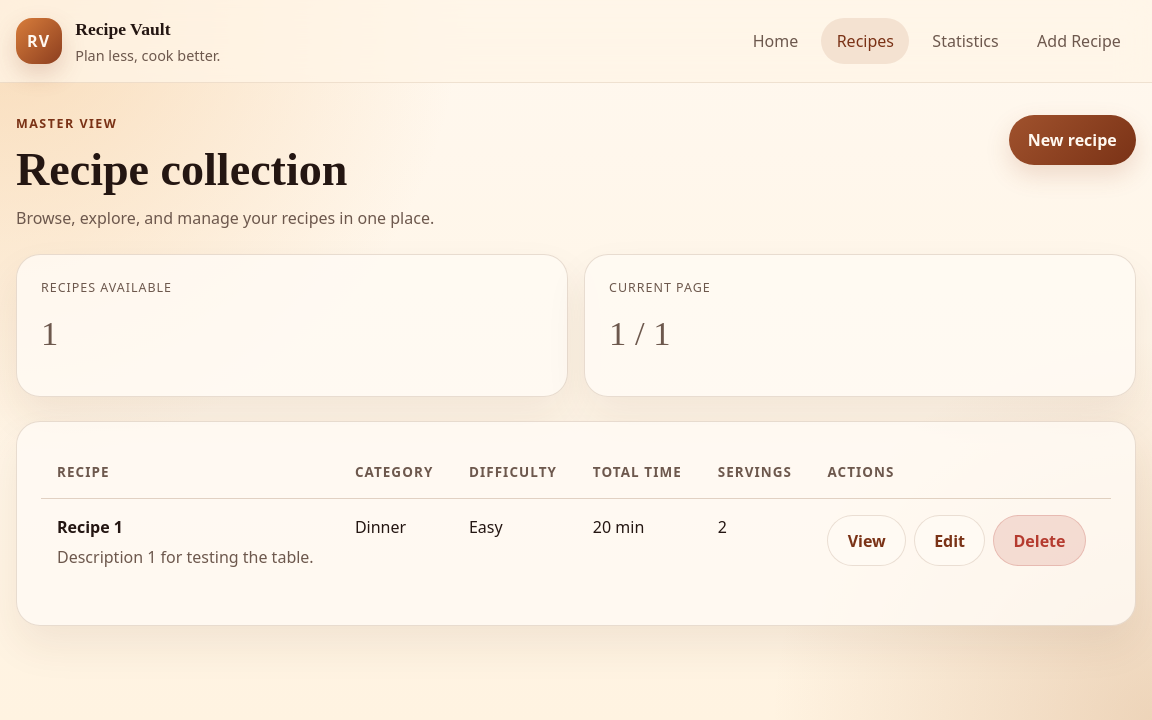
Test: Recipes page › opens the detail page from the table
The width and height of the screenshot is (1152, 720).
expect the link "Recipe 1" is shown: met, box [57, 516, 123, 538]
Click the link "View": (867, 541) [828, 515, 906, 566]
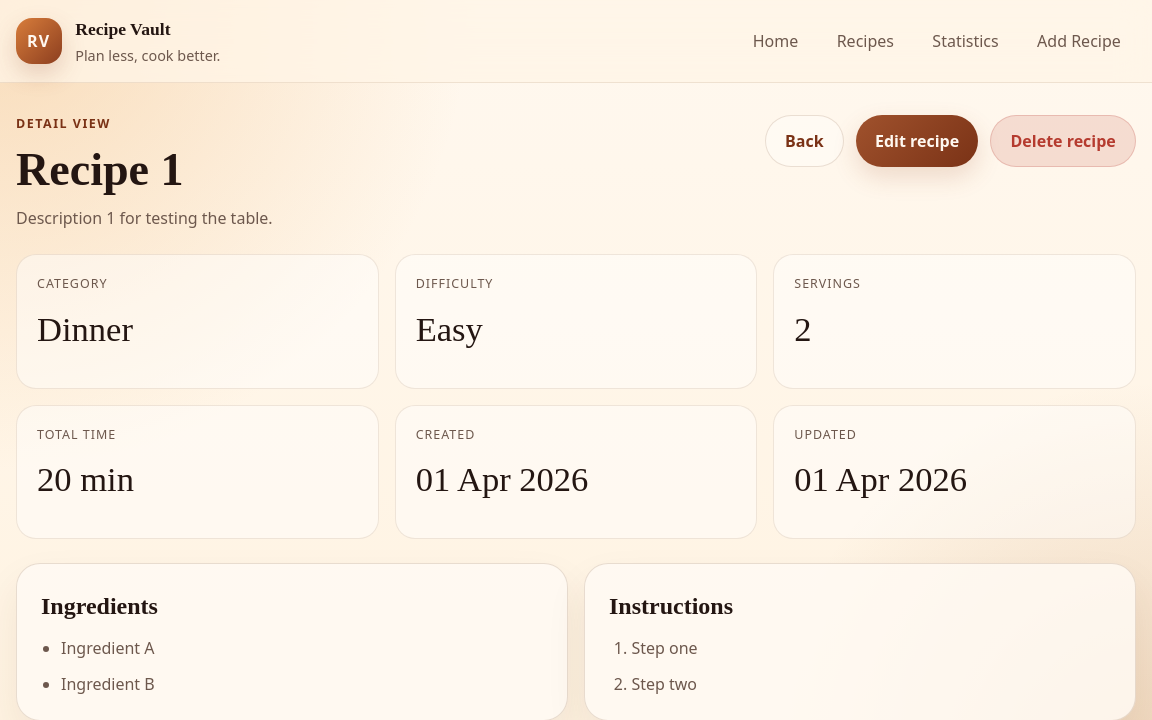
expect the heading "Recipe 1" is shown: met, box [16, 144, 184, 195]
expect the list item "Ingredient A" is shown: met, box [61, 637, 154, 659]
